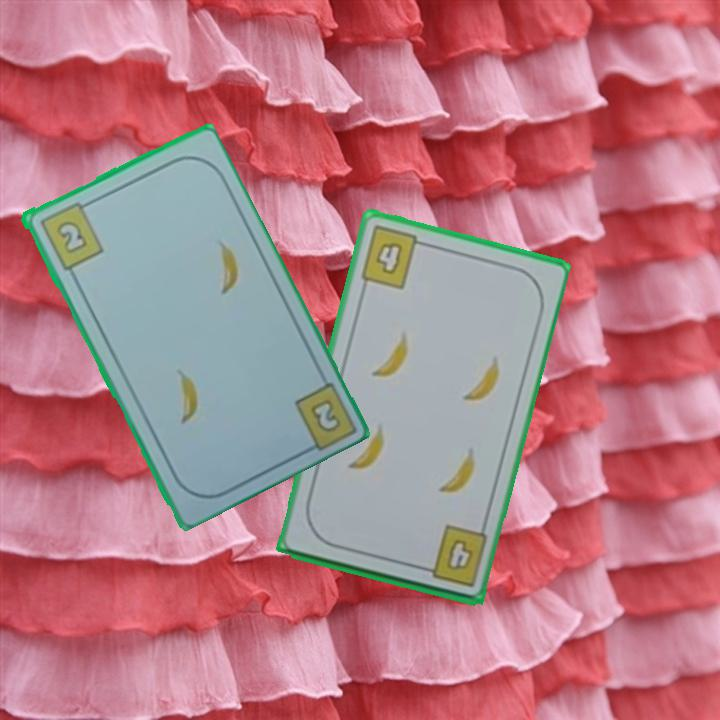2b: (35, 197, 106, 273), (306, 395, 344, 436)
4b: (415, 521, 491, 590), (357, 222, 431, 292)
